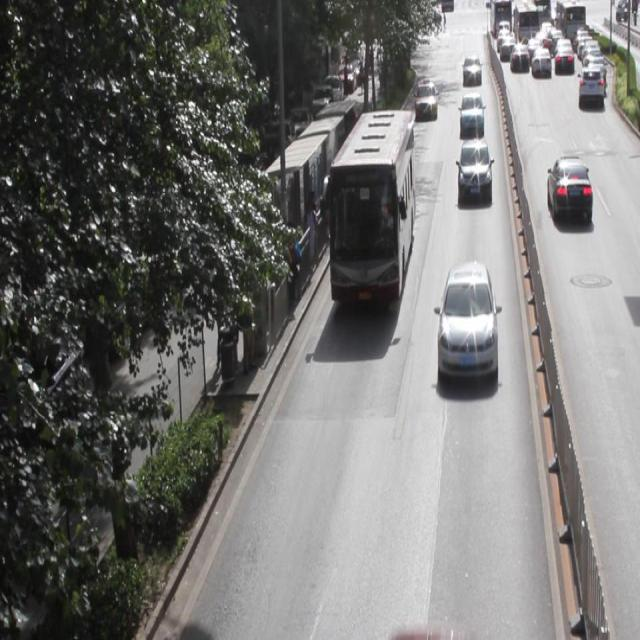car: (436, 262, 496, 379), (546, 153, 591, 225), (456, 138, 491, 196), (458, 91, 483, 133), (414, 80, 436, 118)
van: (328, 107, 413, 300)
